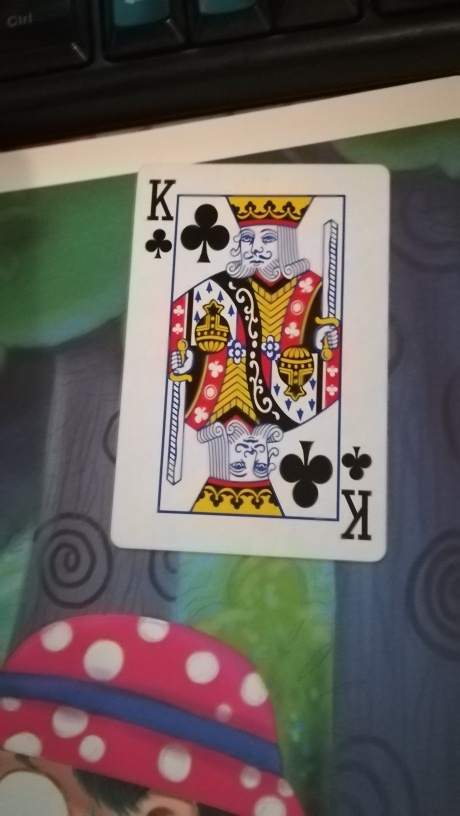mh k: (109, 159, 389, 566)
